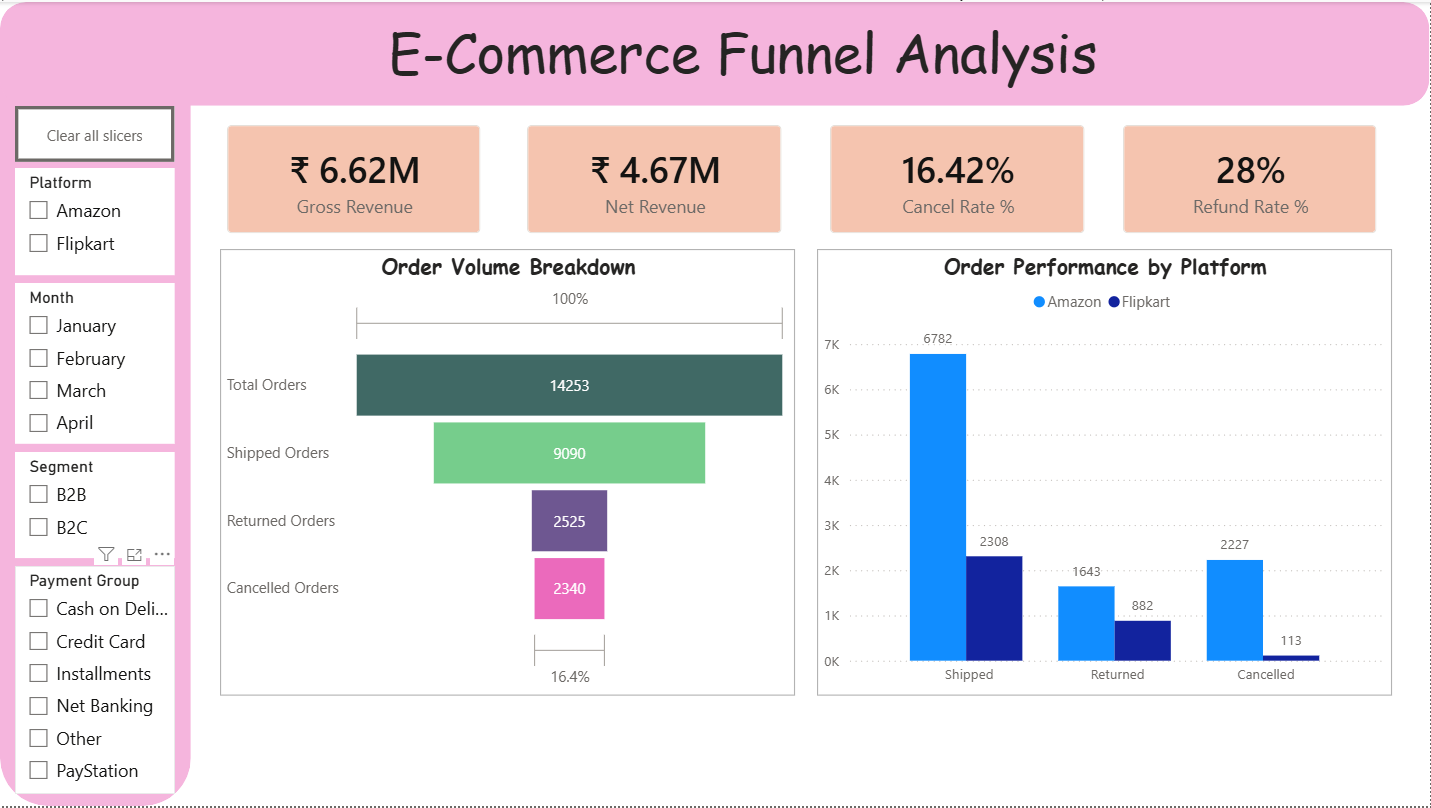

The dashboard page shown, as its layout file describes it:
{"tool":"powerbi","page":{"name":"Funnel Overview","canvas":[1280,720],"ordinal":0},"visuals":[{"type":"cardVisual","fields":{"Data":["unified_sales.Gross Revenue"]},"box":[186.4,92.7,261.8,131.8],"z":0},{"type":"cardVisual","fields":{"Data":["unified_sales.Net Revenue"]},"box":[454.5,92.7,262.7,131.8],"z":1000},{"type":"cardVisual","fields":{"Data":["unified_sales.Refund Rate %"]},"box":[989.1,92.7,261.8,131.8],"z":2000},{"type":"cardVisual","fields":{"Data":["unified_sales.Cancel Rate %"]},"box":[726.4,92.7,262.7,131.8],"z":3000},{"type":"shape","box":[0,0,170.9,720],"z":4000},{"type":"shape","box":[0,0,1280,93],"z":5000},{"type":"slicer","fields":{"Values":["unified_sales.platform"]},"box":[13.6,149.1,142.7,96.4],"z":6000},{"type":"slicer","fields":{"Values":["unified_sales.month"]},"box":[13.6,251.8,142.7,143.6],"z":7000},{"type":"actionButton","box":[13.6,92.7,142.7,50],"z":8000},{"type":"funnel","title":"Order Volume Breakdown","fields":{"Y":["unified_sales.Total Orders","unified_sales.Shipped Orders","unified_sales.Returned Orders","unified_sales.Cancelled Orders"]},"box":[197.3,220.9,514.5,400],"z":9000},{"type":"clusteredColumnChart","title":"Order Performance by Platform","fields":{"Category":["unified_sales.transaction_type"],"Y":["unified_sales.Total Orders"],"Series":["unified_sales.platform"]},"box":[731.8,220.9,514.5,400],"z":10000},{"type":"textbox","box":[342.7,5.5,646.4,80.9],"z":11000},{"type":"slicer","fields":{"Values":["unified_sales.segment"]},"box":[13.6,402.7,142.7,95.5],"z":12000},{"type":"slicer","fields":{"Values":["unified_sales.Payment Group"]},"box":[13.6,505.5,142.7,203.6],"z":13000}]}

Visuals, with their boxes in screenshot pixels (x1, y1, x2, y2), scaled from the page's 1280x720 canvas onto the 1431x808 screenshot:
cardVisual - unified_sales.Gross Revenue: {"x1": 208, "y1": 104, "x2": 501, "y2": 252}
cardVisual - unified_sales.Net Revenue: {"x1": 508, "y1": 104, "x2": 802, "y2": 252}
cardVisual - unified_sales.Refund Rate %: {"x1": 1106, "y1": 104, "x2": 1398, "y2": 252}
cardVisual - unified_sales.Cancel Rate %: {"x1": 812, "y1": 104, "x2": 1106, "y2": 252}
shape: {"x1": 0, "y1": 0, "x2": 191, "y2": 807}
shape: {"x1": 0, "y1": 0, "x2": 1430, "y2": 104}
slicer - unified_sales.platform: {"x1": 15, "y1": 167, "x2": 175, "y2": 276}
slicer - unified_sales.month: {"x1": 15, "y1": 283, "x2": 175, "y2": 444}
actionButton: {"x1": 15, "y1": 104, "x2": 175, "y2": 160}
"Order Volume Breakdown" funnel: {"x1": 221, "y1": 248, "x2": 796, "y2": 697}
"Order Performance by Platform" clusteredColumnChart: {"x1": 818, "y1": 248, "x2": 1393, "y2": 697}
textbox: {"x1": 383, "y1": 6, "x2": 1106, "y2": 97}
slicer - unified_sales.segment: {"x1": 15, "y1": 452, "x2": 175, "y2": 559}
slicer - unified_sales.Payment Group: {"x1": 15, "y1": 567, "x2": 175, "y2": 796}
